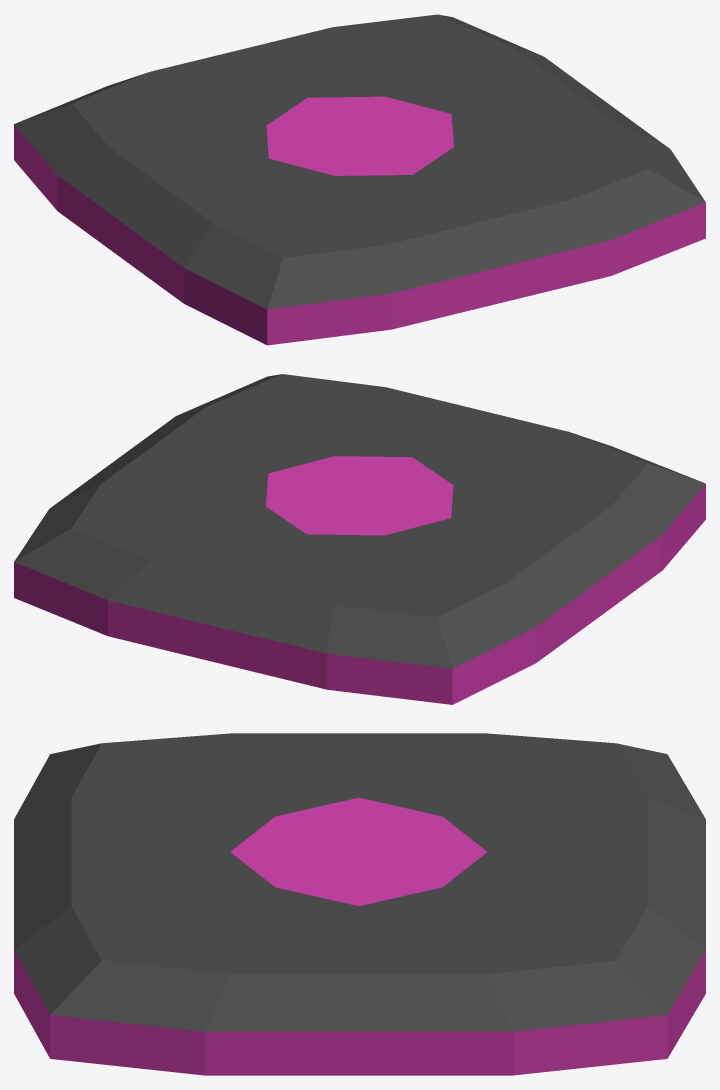
File: PlatformPuzzlee.fbx
3 views of the same model, one above another, from view 1: azimuth 30°, elevation 25°; view 2: azimuth 150°, elevation 25°; view 3: azimuth 270°, elevation 25° (orthographic). The views are drawn at different scales.
Visible parts, largest first — view 1: Cube; view 2: Cube; view 3: Cube.
Boxes of the visible parts, box(x1,y1,x2,y2) form: Cube: box(14, 14, 705, 345); Cube: box(14, 374, 705, 704); Cube: box(14, 733, 705, 1075).
Bounding box in the file's own units: 266 × 32.89 × 269.
